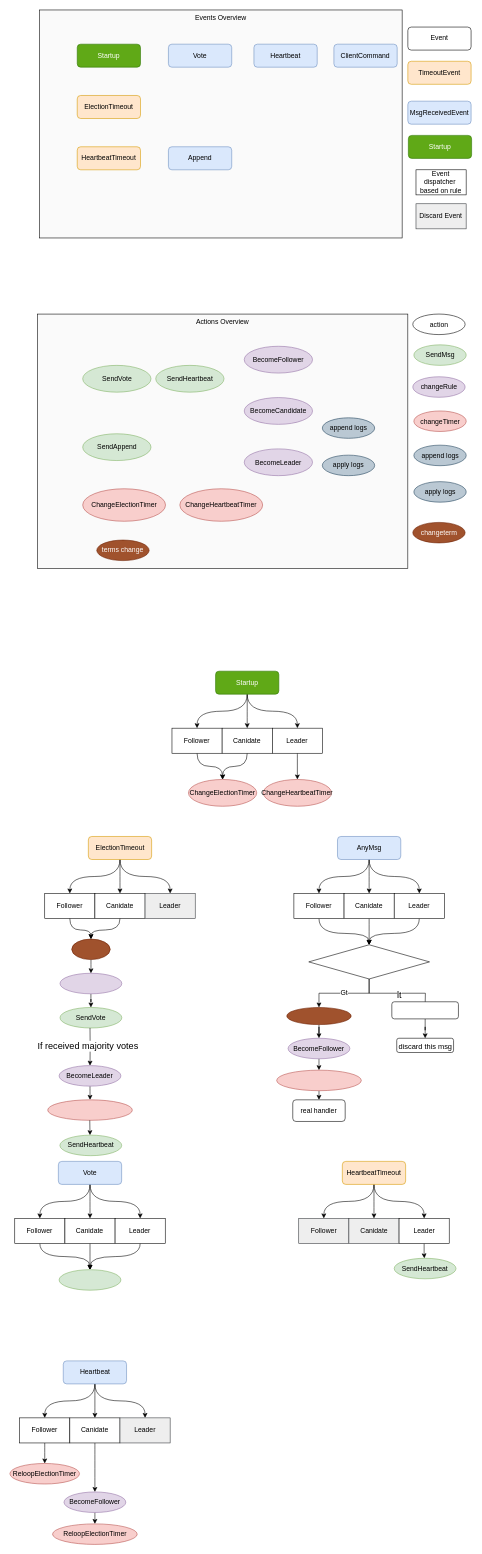
Some shapes in this 482 by 1554 pixel diagram are drawn without their labels. The shapes that lost their labels are listed below. From the top down, each one's centre as x and y in pixels, then its label:
(x=90, y=949): incr term
(x=368, y=961): term compare to self`s term
(x=90, y=983): BecomeCanidate
(x=318, y=1016): change to msg's term
(x=424, y=1010): response self term and false
(x=318, y=1080): ChangetoElectionTimer
(x=89, y=1109): ChangetoHeartbeatTimer
(x=90, y=1279): SendVoteResp
